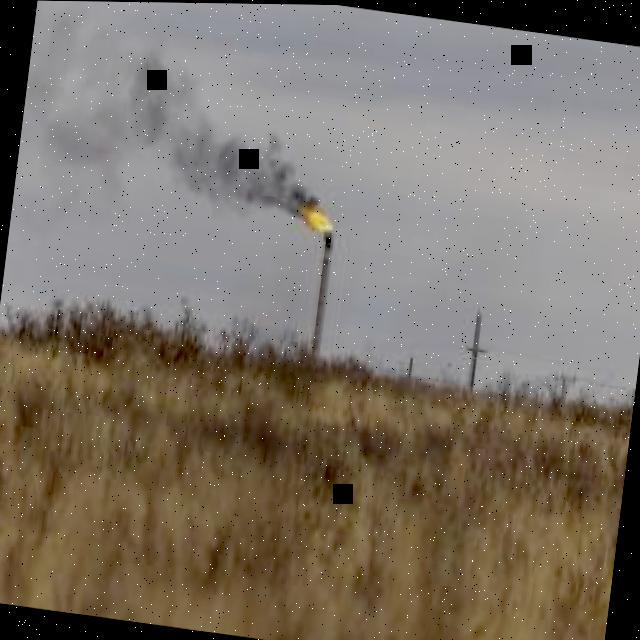fire: (304, 204, 334, 235)
smoke: (9, 0, 320, 238)
